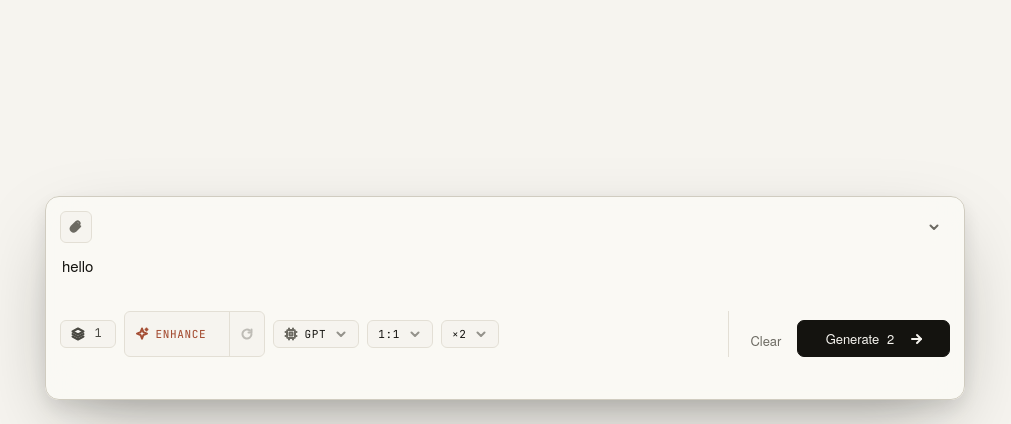
Test: Composer roll-queue chip › clicking the chip toggles the expanded queue list
This screenshot has width=1011, height=424.
Expected: the text "expanded prompt" is not shown
Click the button named "roll-queue · 1" at (88, 334), box [60,320,116,348]
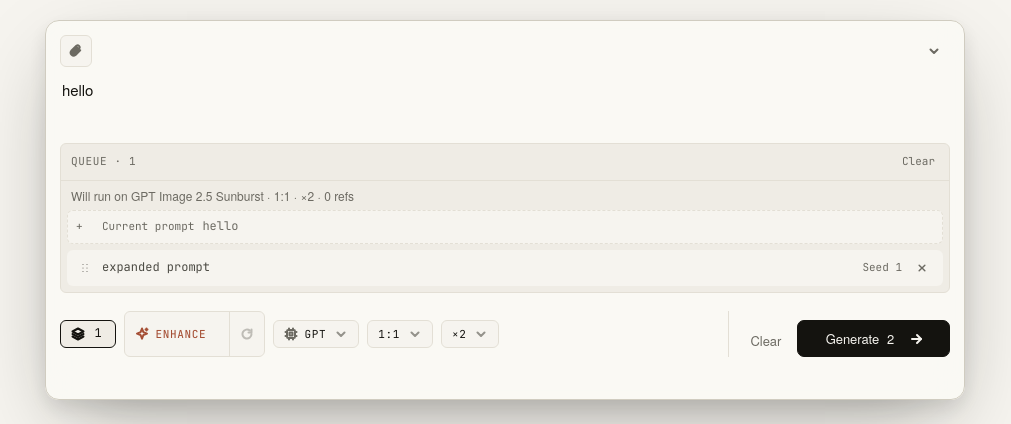
Expected: the text "expanded prompt" is shown, [102,259,210,275]
